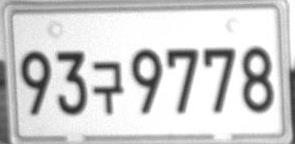3: (56, 51, 87, 114)
7: (167, 48, 198, 113), (204, 48, 235, 112)
8: (241, 46, 273, 113)
9: (131, 48, 163, 114), (19, 50, 51, 115)
구: (92, 61, 124, 114)
